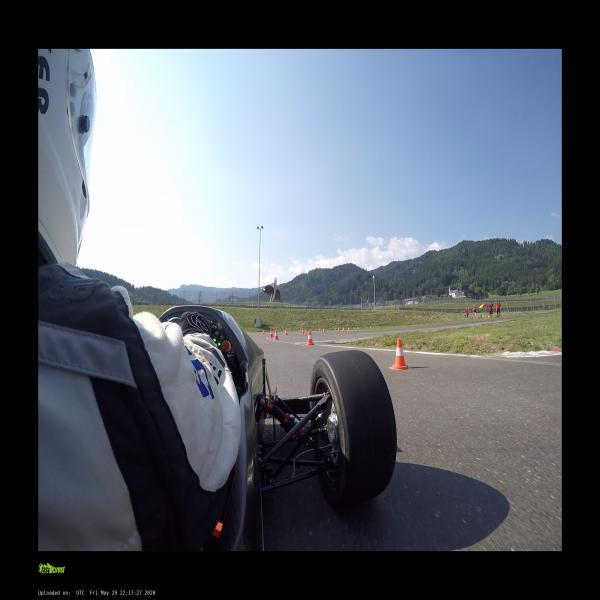orange_cone: (391, 338, 409, 370), (306, 331, 314, 345), (274, 330, 279, 339), (270, 329, 272, 337), (284, 328, 286, 335), (302, 328, 304, 334), (285, 329, 287, 335), (299, 328, 301, 333), (323, 328, 325, 332), (262, 330, 264, 334), (343, 327, 344, 331), (300, 328, 301, 332), (338, 328, 339, 331), (320, 328, 320, 331), (306, 329, 306, 332)
